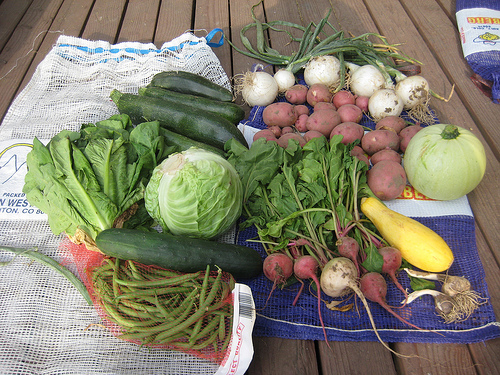cabbage: (143, 146, 243, 241)
